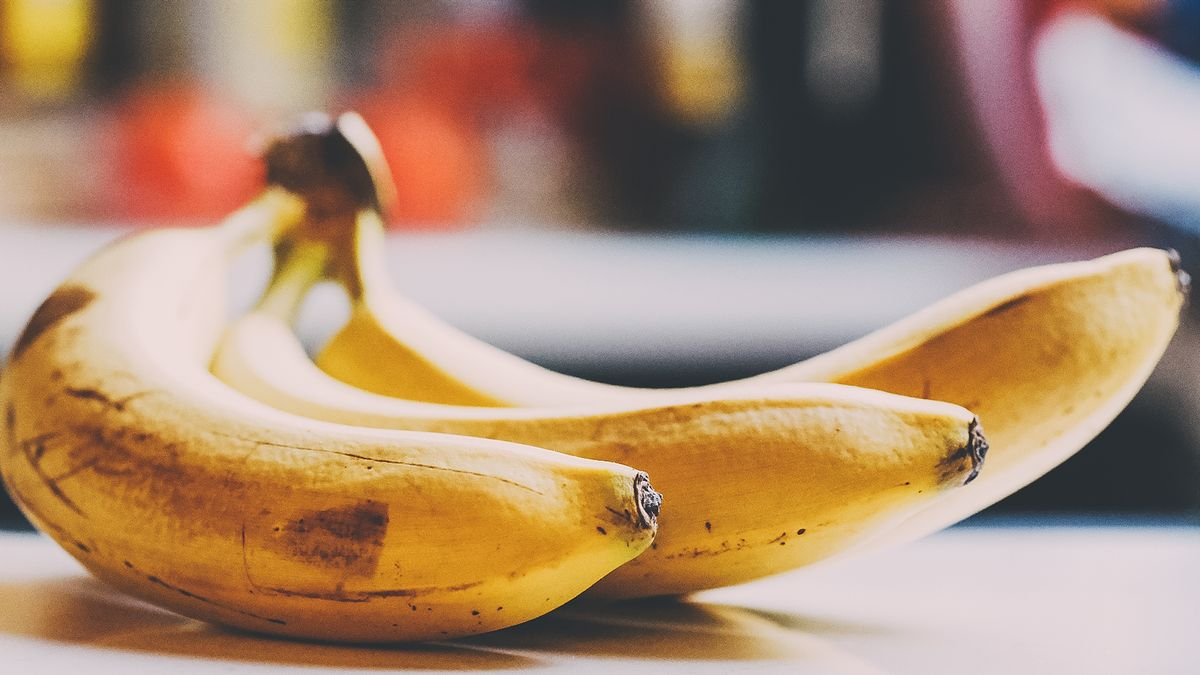banana: (1, 105, 1191, 649)
